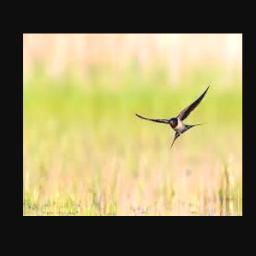Swallow: (134, 86, 209, 146)
